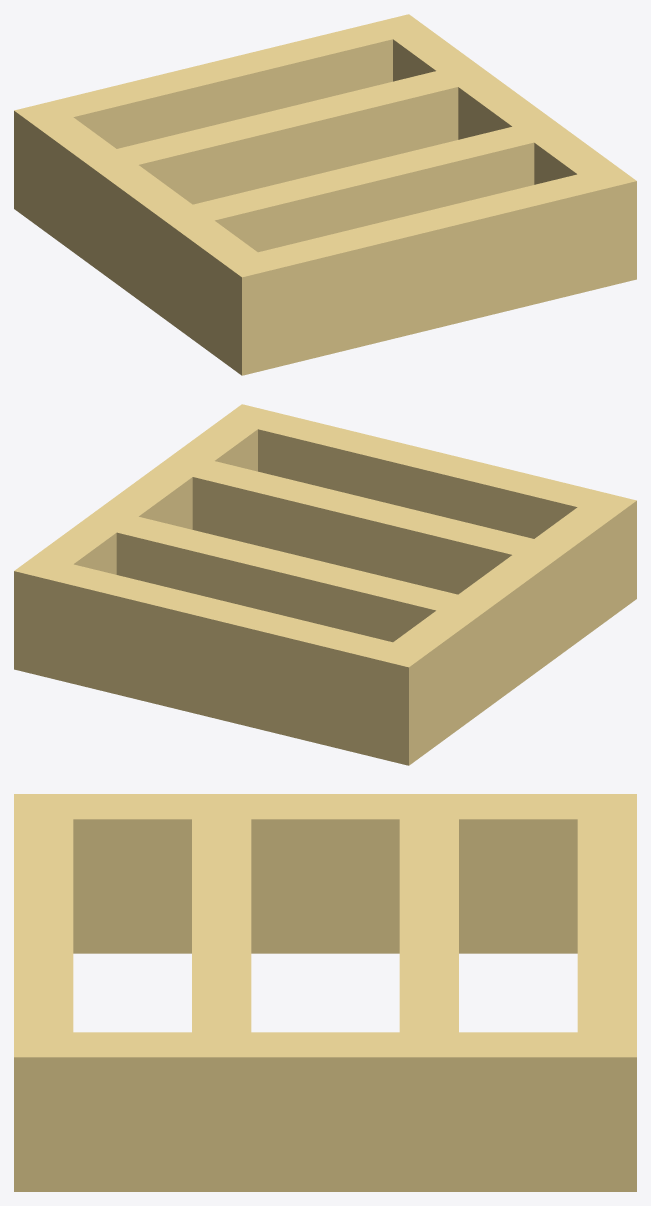
Rendered from futur_step.dae.
3 views of the same model, one above another, from view 1: azimuth 30°, elevation 25°; view 2: azimuth 150°, elevation 25°; view 3: azimuth 270°, elevation 25° (orthographic). The views are drawn at different scales.
Visible parts, largest first — view 1: Box_17; view 2: Box_17; view 3: Box_17.
Part boxes in pixels (left/top/right/bottom): Box_17: left=14, top=14, right=636, bottom=375; Box_17: left=14, top=404, right=636, bottom=765; Box_17: left=14, top=794, right=636, bottom=1191.
Size of the model in its own units: 21 by 5 by 21.
Materials: 1 (1 with a texture image).
